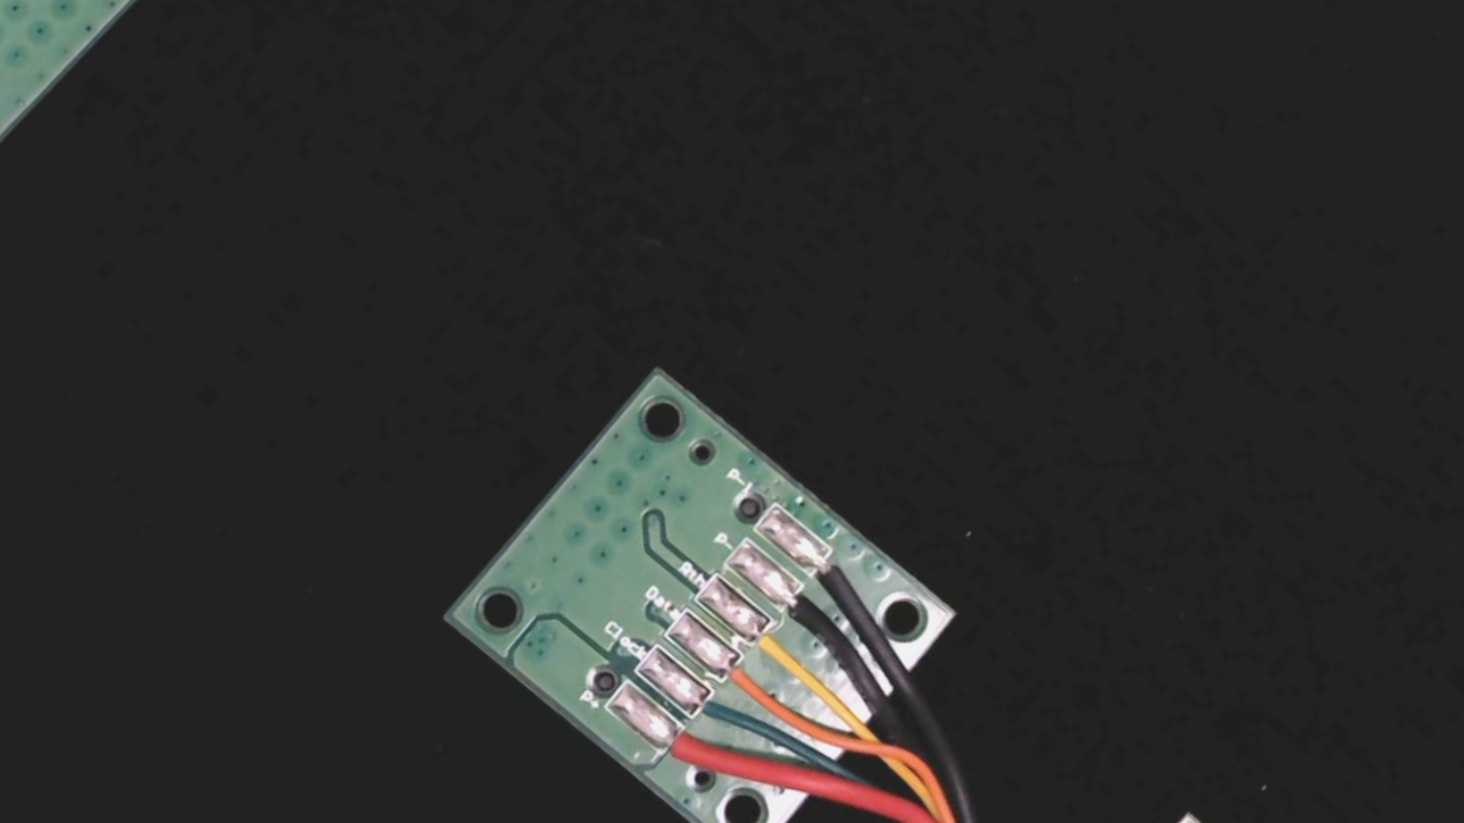Black: (764, 570, 844, 646)
Black1: (792, 532, 879, 614)
Green: (678, 680, 751, 750)
Orange: (705, 642, 784, 718)
Red: (644, 710, 734, 797)
Yellow: (733, 604, 827, 693)
